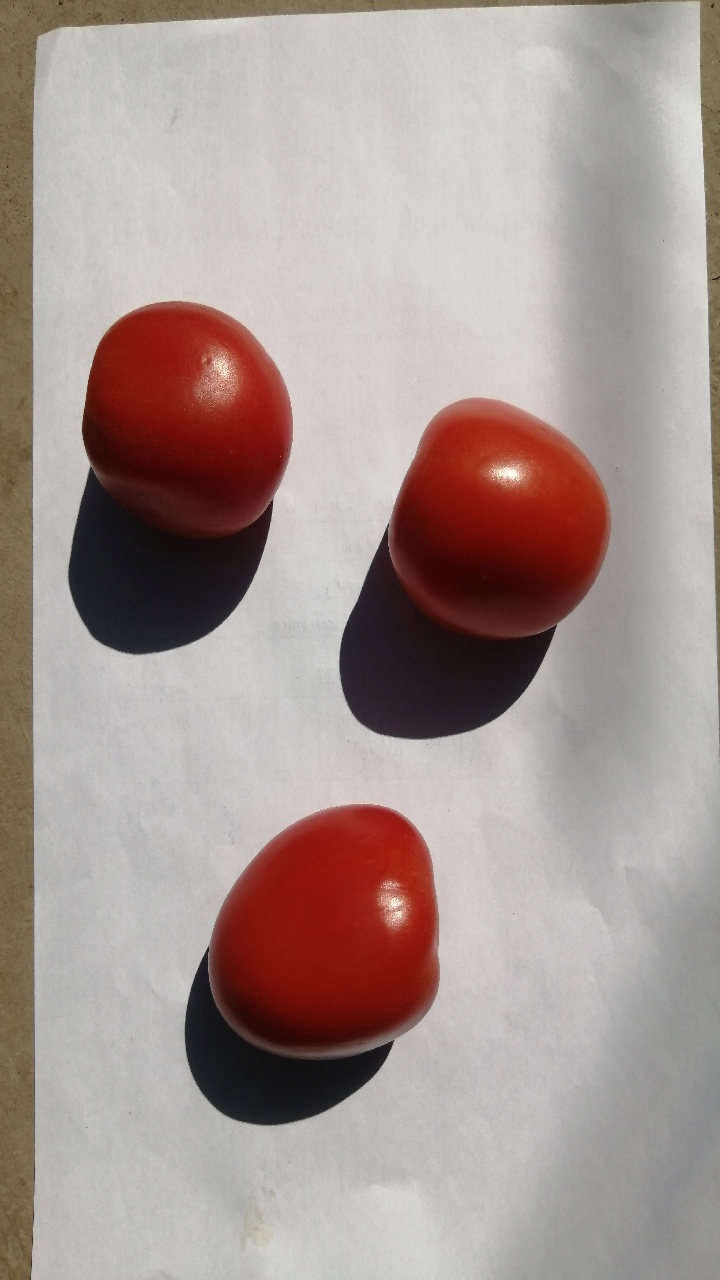tomateRojo: (181, 785, 468, 1075), (369, 380, 637, 659), (60, 283, 311, 555)
